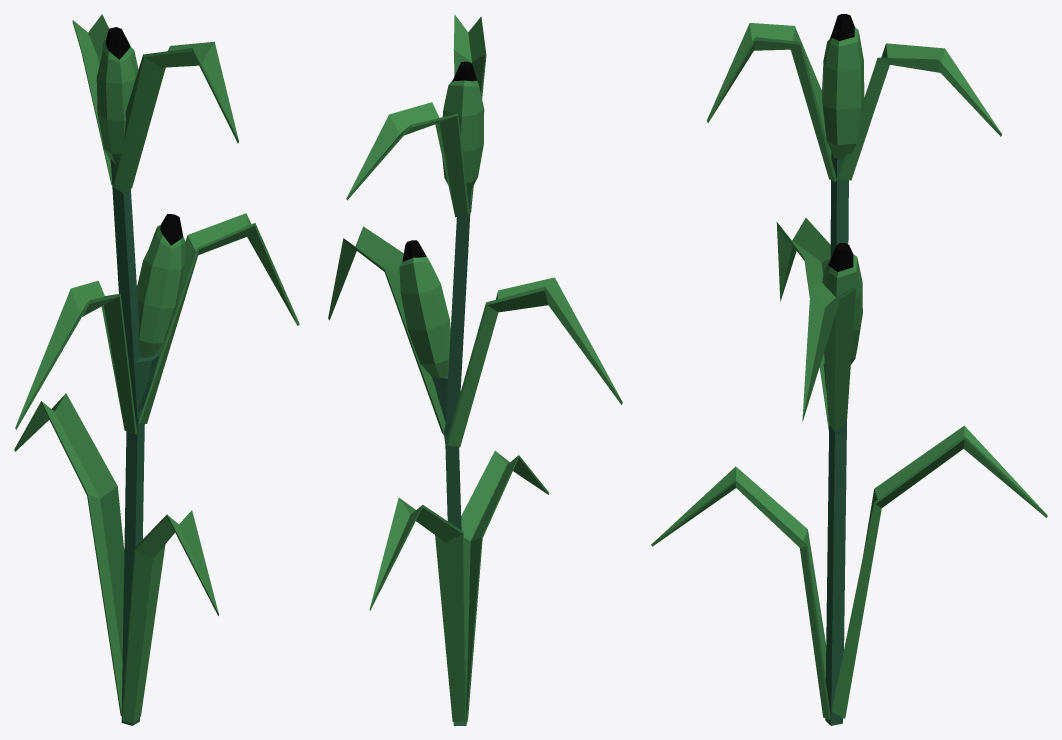
Rendered from Corn_M_Groowing.fbx.
3 renders of one model, left to right at view 1: azimuth 30°, elevation 25°; view 2: azimuth 150°, elevation 25°; view 3: azimuth 270°, elevation 25°, orthographic. The views are drawn at different scales.
Visible parts, largest first — view 1: Corn_M_Groowing, Corn_Young_01, Corn_Young_02; view 2: Corn_M_Groowing, Corn_Young_01, Corn_Young_02; view 3: Corn_M_Groowing, Corn_Young_02, Corn_Young_01.
Part boxes in pixels (bbox=[...]): Corn_M_Groowing: bbox=[14, 14, 299, 725]; Corn_Young_01: bbox=[137, 214, 185, 357]; Corn_Young_02: bbox=[96, 27, 138, 164]; Corn_M_Groowing: bbox=[328, 14, 622, 725]; Corn_Young_01: bbox=[399, 240, 450, 378]; Corn_Young_02: bbox=[442, 61, 484, 193]; Corn_M_Groowing: bbox=[651, 23, 1047, 725]; Corn_Young_02: bbox=[822, 14, 864, 159]; Corn_Young_01: bbox=[822, 243, 862, 364].
Bounding box in the file's own units: 40.14 × 90.85 × 46.08.
